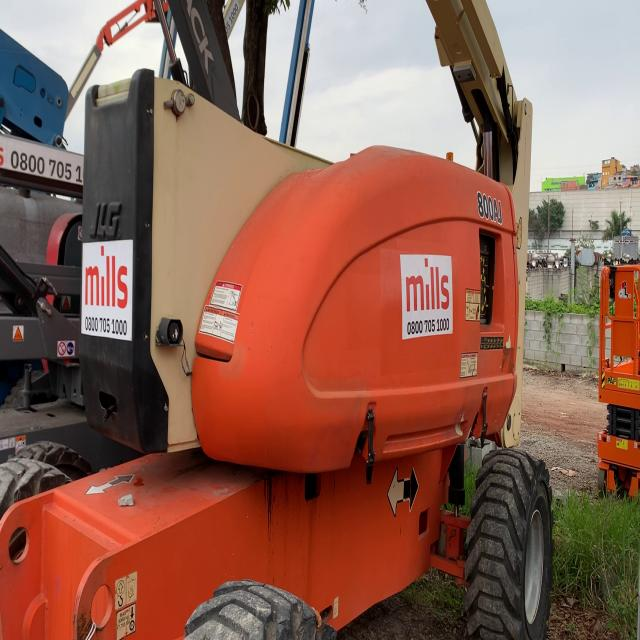Adesivos: (80, 238, 134, 342), (399, 252, 454, 341)
